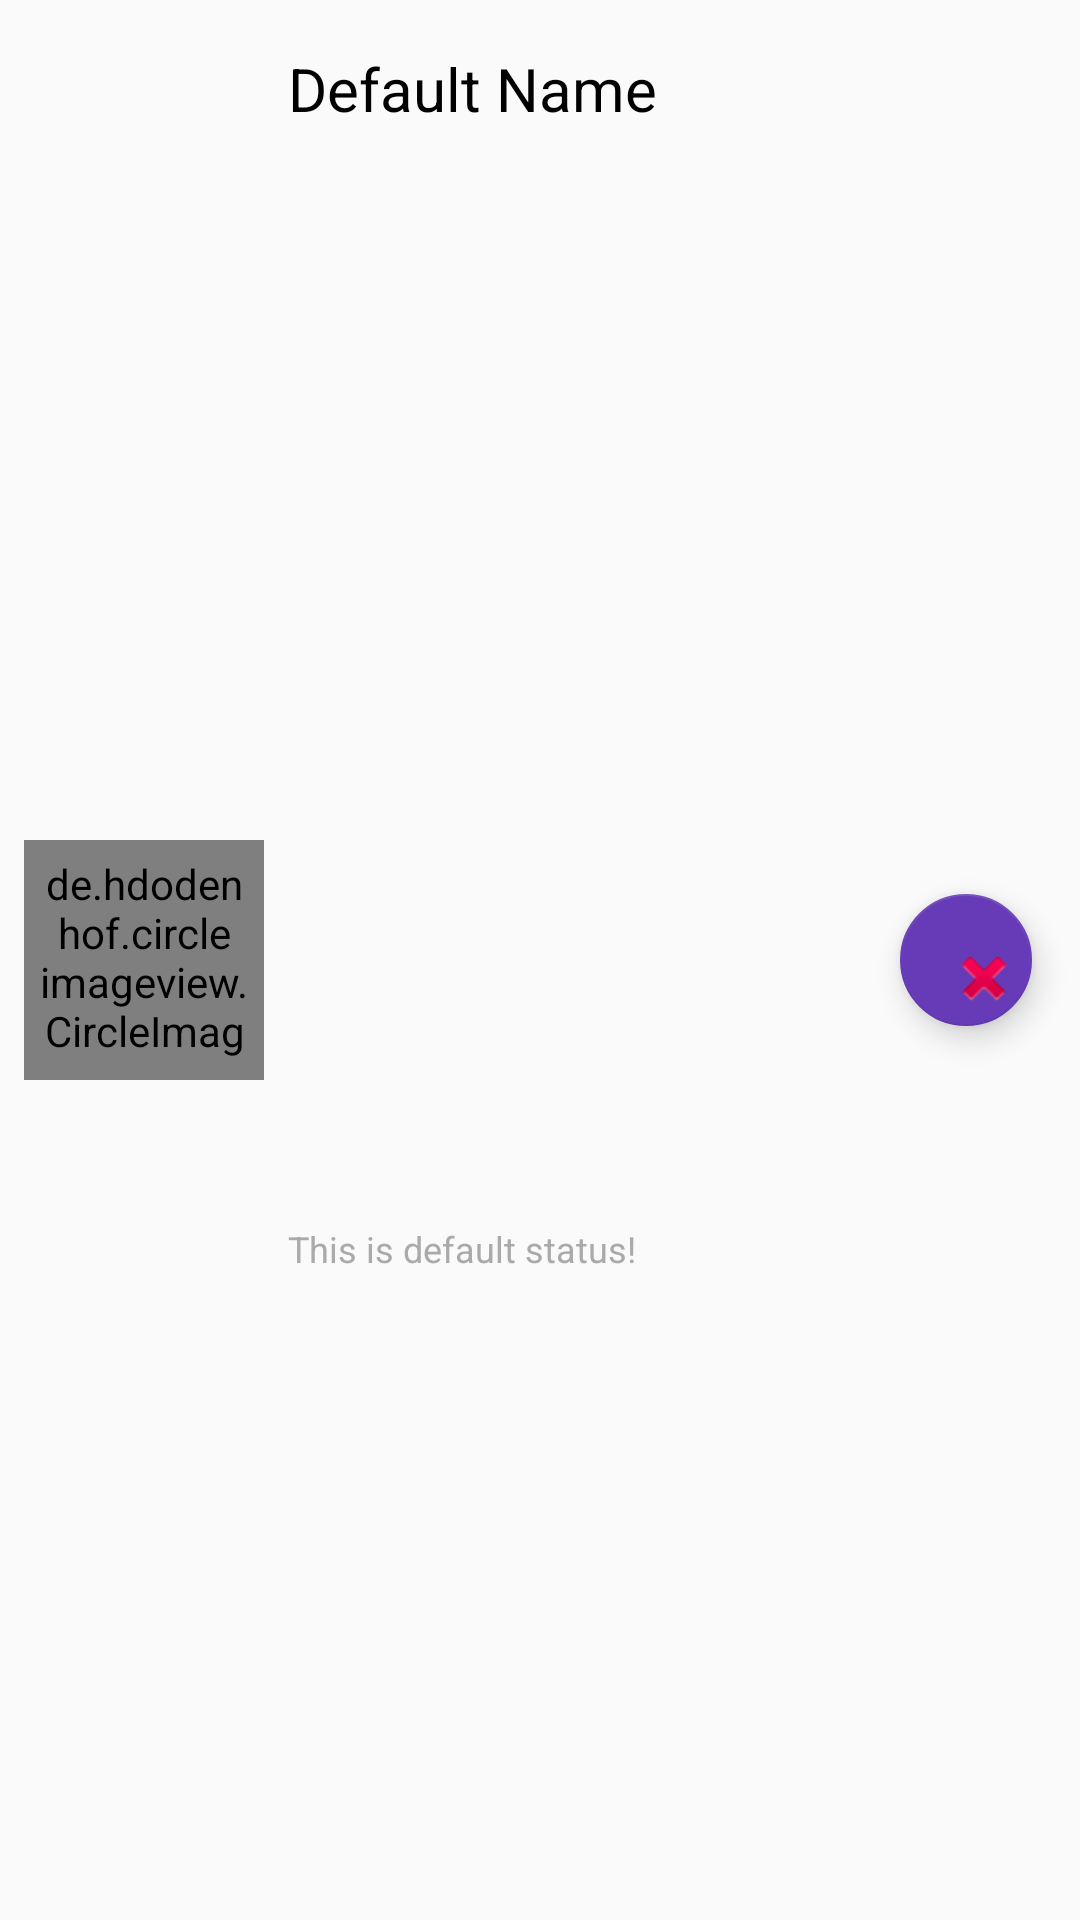

Point at icon controls on the screen. Image size 1080px x 1920px, points as (x=x, y=y).
delete: (x=966, y=960)
